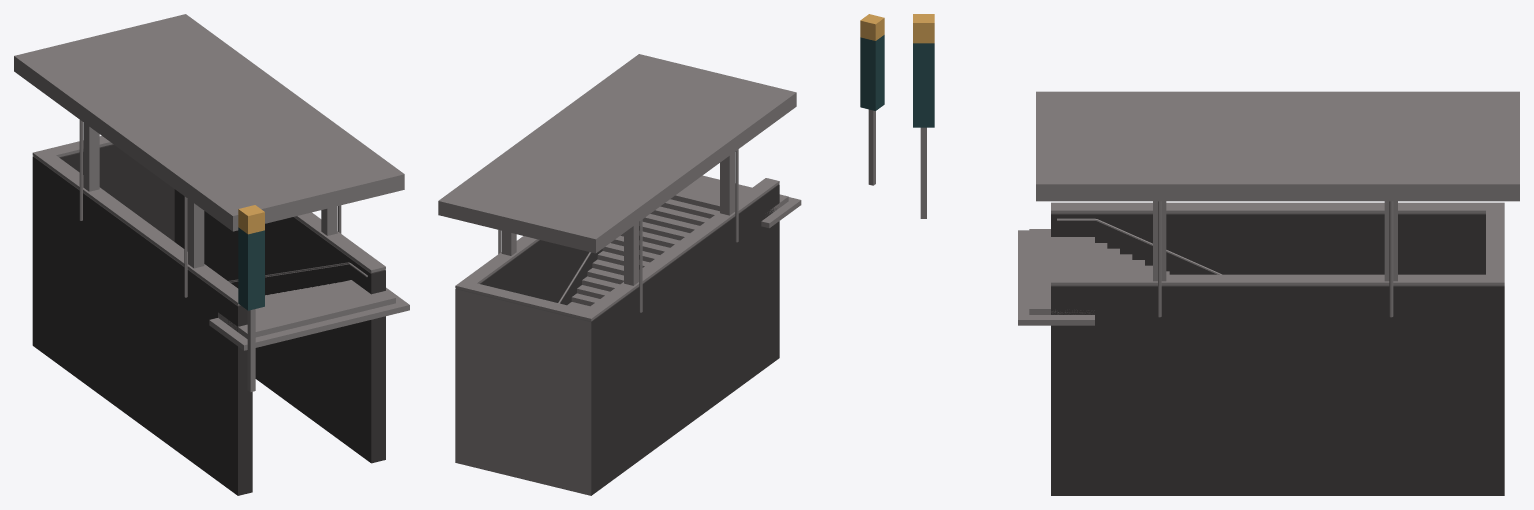
Rendered from subway_entrance.fbx.
3 renders of one model, left to right at view 1: azimuth 30°, elevation 25°; view 2: azimuth 150°, elevation 25°; view 3: azimuth 270°, elevation 25°, orthographic. The views are drawn at different scales.
Visible parts, largest first — view 1: entrance, Sign; view 2: entrance, Stair, Sign; view 3: entrance, Sign, Stair.
Boxes of the visible parts, left/top/right/bottom form: entrance: left=14, top=14, right=409, bottom=495; Sign: left=238, top=205, right=264, bottom=391; entrance: left=438, top=54, right=801, bottom=495; Stair: left=567, top=199, right=719, bottom=309; Sign: left=860, top=14, right=884, bottom=185; entrance: left=1018, top=91, right=1519, bottom=495; Sign: left=913, top=14, right=934, bottom=218; Stair: left=1095, top=243, right=1169, bottom=274.
Size of the model in its own units: 716 by 1091 by 1605.
